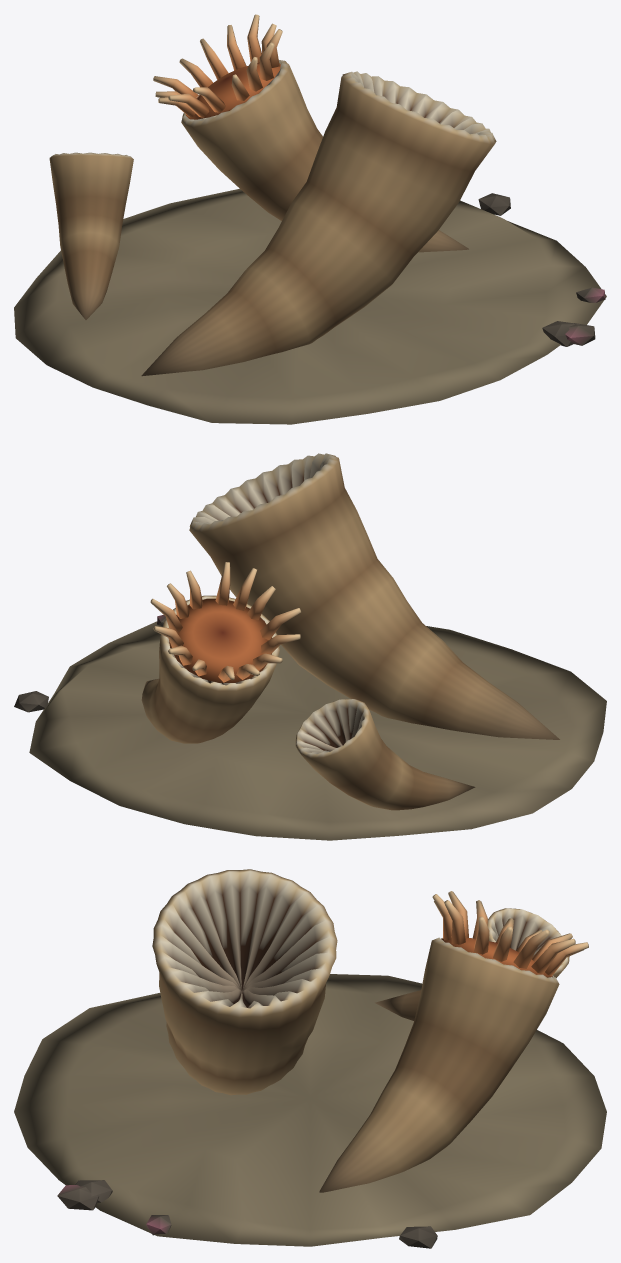
The model's file is Streptelasma.fbx.
3 renders of one model, top to bottom at view 1: azimuth 30°, elevation 25°; view 2: azimuth 150°, elevation 25°; view 3: azimuth 270°, elevation 25°, orthographic. The views are drawn at different scales.
Visible parts, largest first — view 1: Streptelasma; view 2: Streptelasma; view 3: Streptelasma.
Part boxes in pixels (x1=…): Streptelasma: x1=14, y1=14, x2=606, y2=424; Streptelasma: x1=14, y1=453, x2=606, y2=840; Streptelasma: x1=14, y1=869, x2=606, y2=1248.
Size of the model in its own units: 1.57 by 0.7259 by 1.44.
